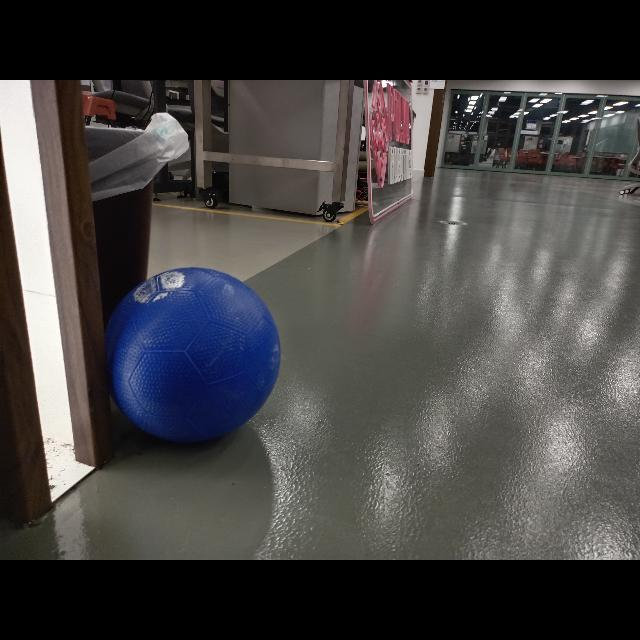B: (100, 256, 286, 449)
